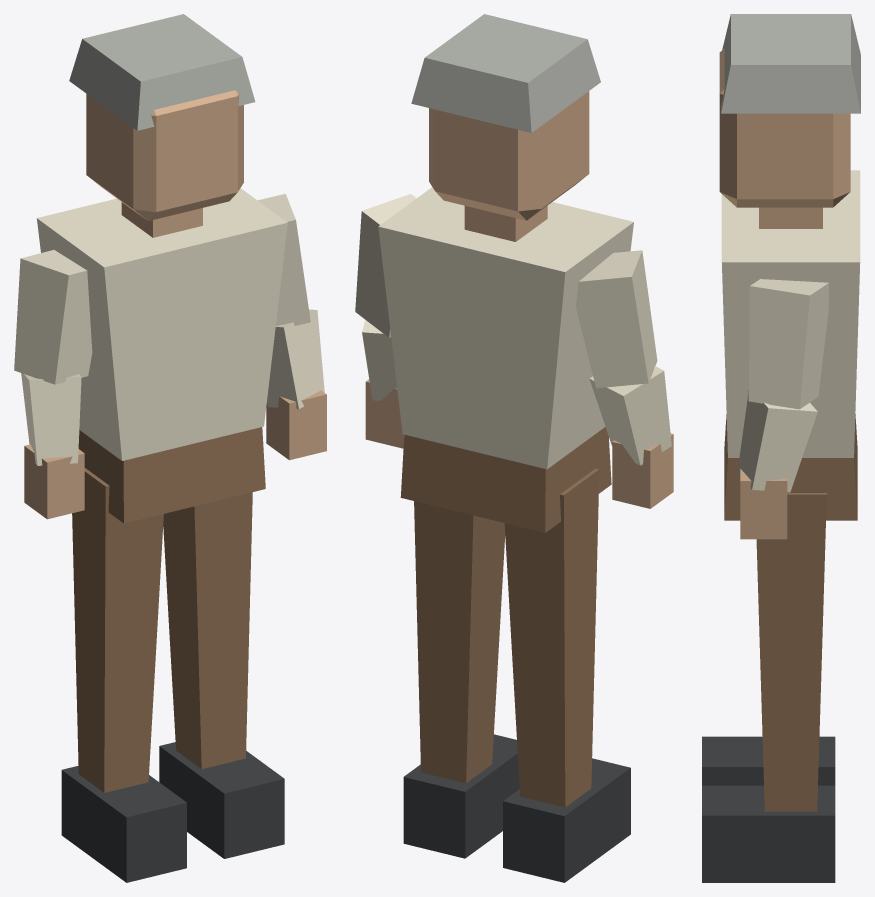
The model's file is Citizen_Male_05_Cream_Sweater.fbx.
The picture shows the model from 3 angles, left to right: view 1: azimuth 30°, elevation 25°; view 2: azimuth 150°, elevation 25°; view 3: azimuth 270°, elevation 25°; orthographic projection. The views are drawn at different scales.
Visible parts, largest first — view 1: Citizen_Male_05_Cream_Sweater_Mesh; view 2: Citizen_Male_05_Cream_Sweater_Mesh; view 3: Citizen_Male_05_Cream_Sweater_Mesh.
Boxes of the visible parts, x1,y1,x2,y2 form: Citizen_Male_05_Cream_Sweater_Mesh: (14,14,326,882); Citizen_Male_05_Cream_Sweater_Mesh: (355,14,673,882); Citizen_Male_05_Cream_Sweater_Mesh: (702,14,860,882).
Bounding box in the file's own units: 65.4 × 170 × 30.45.
